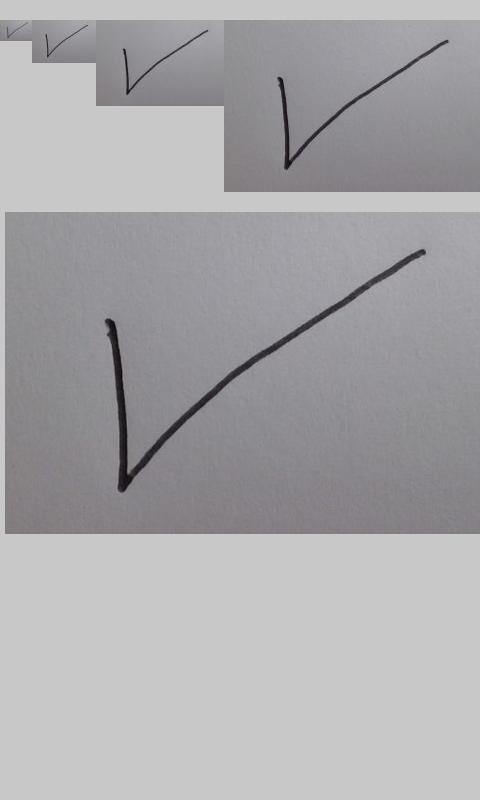check_box: (102, 248, 426, 494), (276, 39, 449, 170), (122, 30, 210, 95), (45, 24, 88, 57), (6, 22, 28, 38)
